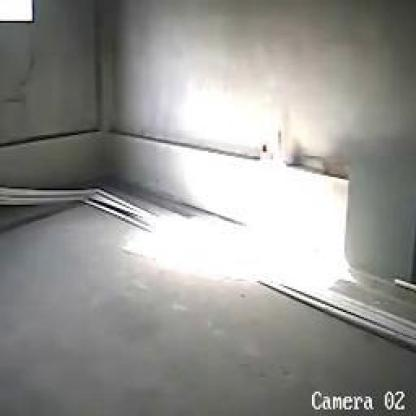other: (149, 84, 363, 294)
